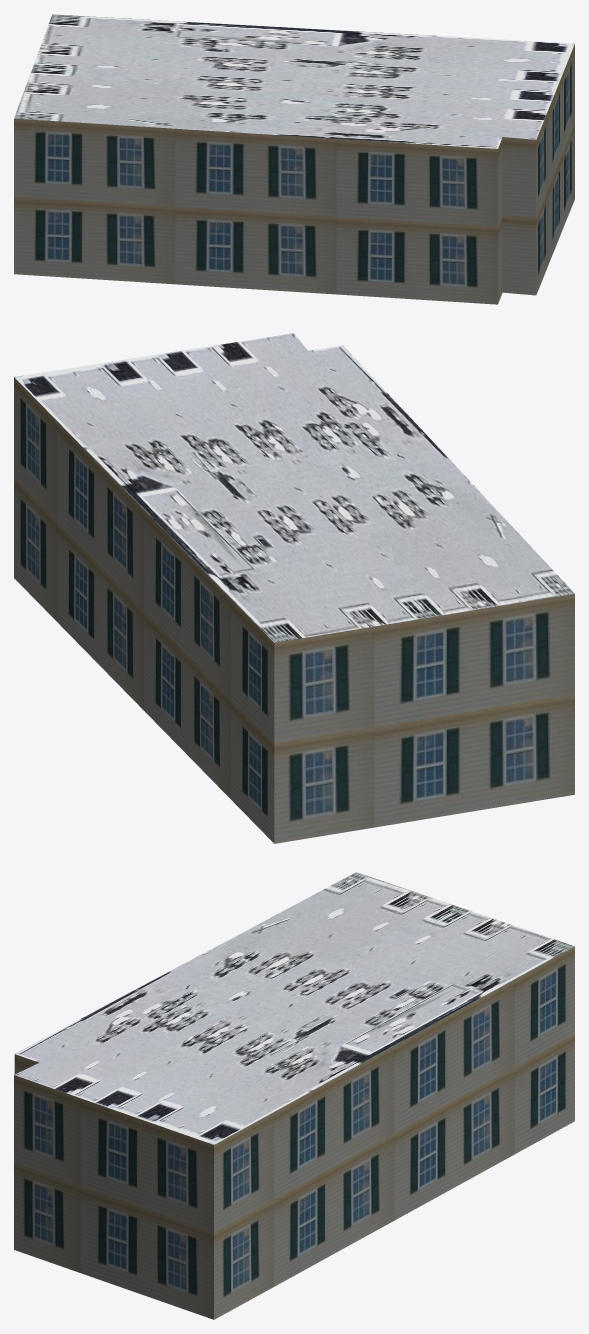
File: ResTex__4633.fbx
3 views of the same model, one above another, from view 1: azimuth 30°, elevation 25°; view 2: azimuth 150°, elevation 25°; view 3: azimuth 270°, elevation 25° (orthographic). The views are drawn at different scales.
Visible parts, largest first — view 1: CityEngineMaterial_7_m, CityEngineMaterial_8_m; view 2: CityEngineMaterial_7_m, CityEngineMaterial_8_m; view 3: CityEngineMaterial_7_m, CityEngineMaterial_8_m.
Part boxes in pixels (x1,y1,x2,y2): CityEngineMaterial_7_m: (14,44,574,304); CityEngineMaterial_8_m: (14,14,574,148); CityEngineMaterial_7_m: (14,377,574,843); CityEngineMaterial_8_m: (14,333,574,642); CityEngineMaterial_7_m: (14,946,574,1319); CityEngineMaterial_8_m: (14,872,574,1144).
Bounding box in the file's own units: 20.08 × 6 × 17.44.
2 materials, 2 textured.
